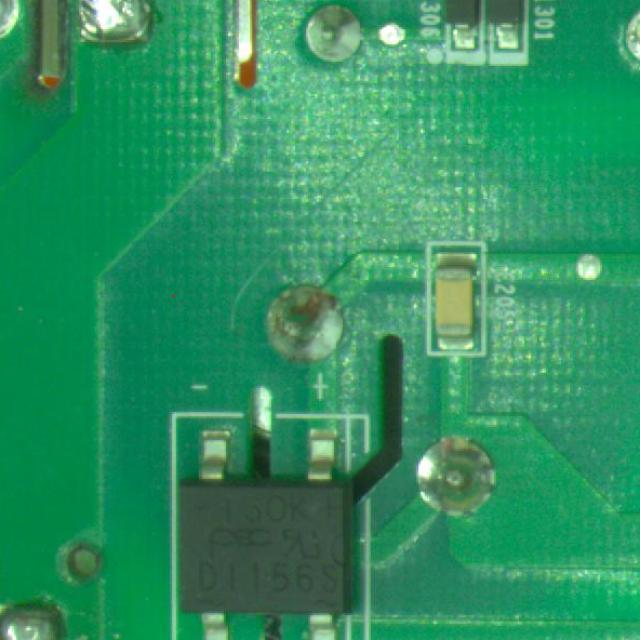oppostie_direction: (416, 436, 496, 516), (269, 288, 344, 361), (305, 5, 361, 62)
